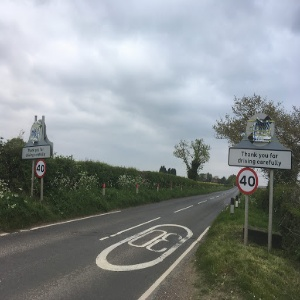40 speed: (237, 168, 258, 195), (35, 160, 46, 177)
